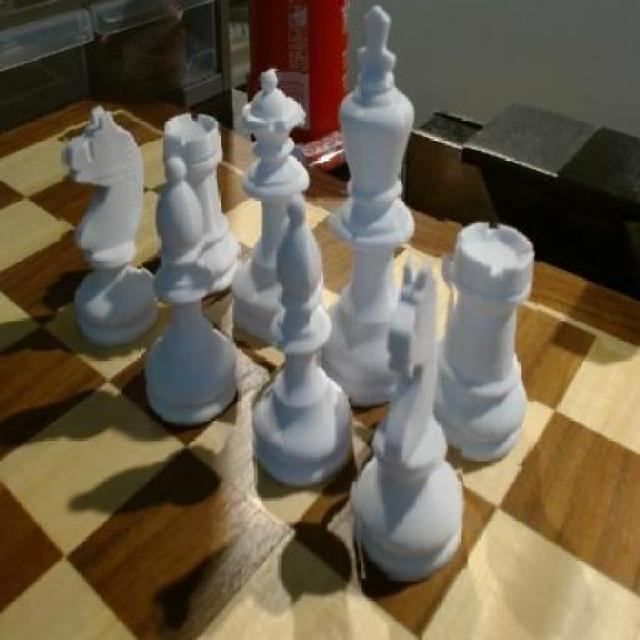black-rook: (250, 194, 358, 485), (142, 155, 242, 424)
white-bishop: (331, 8, 412, 400)
white-king: (348, 257, 464, 578), (58, 101, 164, 352)
white-pawn: (234, 72, 308, 344)
white-queen: (437, 220, 538, 465), (162, 109, 245, 295)
